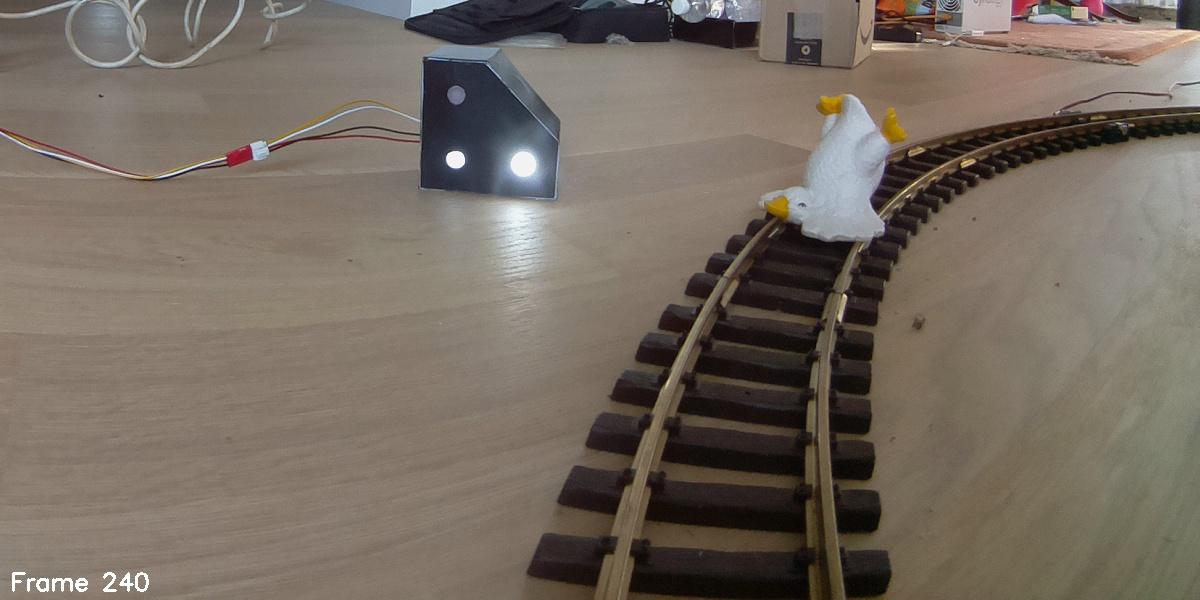Ente: (757, 89, 907, 244)
Halt: (423, 43, 561, 199)
